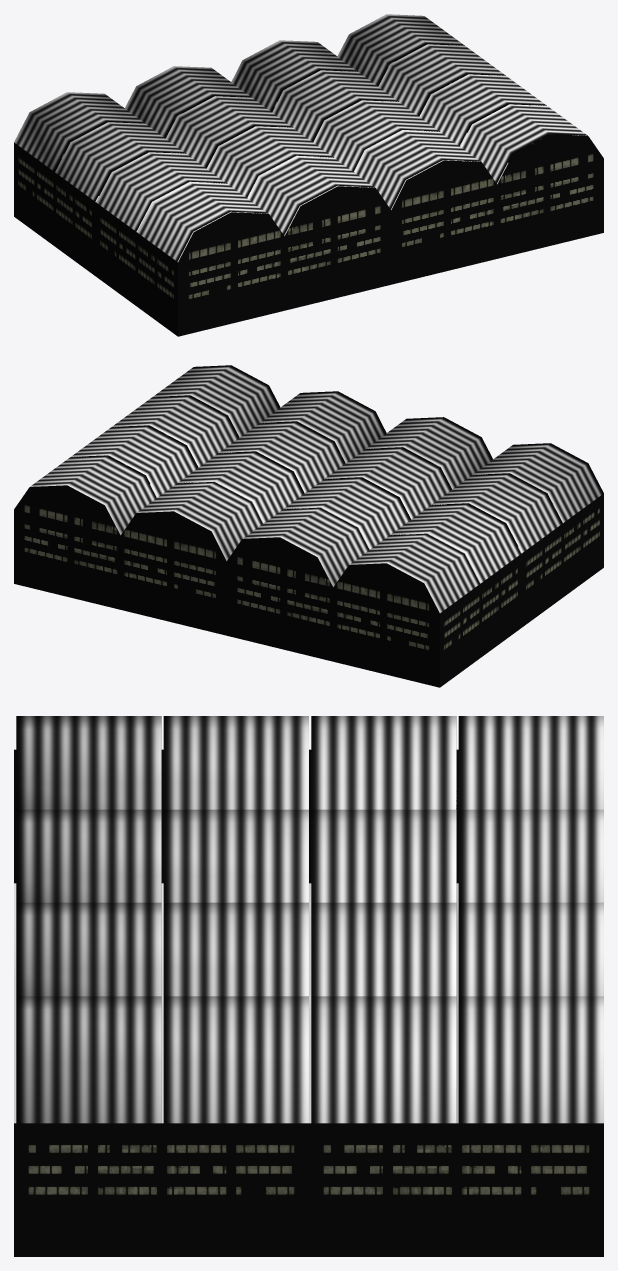
The model's file is Barracks.fbx.
The picture shows the model from 3 angles, top to bottom: view 1: azimuth 30°, elevation 25°; view 2: azimuth 150°, elevation 25°; view 3: azimuth 270°, elevation 25°; orthographic projection. The views are drawn at different scales.
Visible parts, largest first — view 1: Barracks; view 2: Barracks; view 3: Barracks.
Boxes of the visible parts, left/top/right/bottom form: Barracks: left=14, top=14, right=603, bottom=336; Barracks: left=14, top=365, right=603, bottom=687; Barracks: left=14, top=716, right=603, bottom=1256.
Size of the model in its own units: 192 by 48 by 128.
